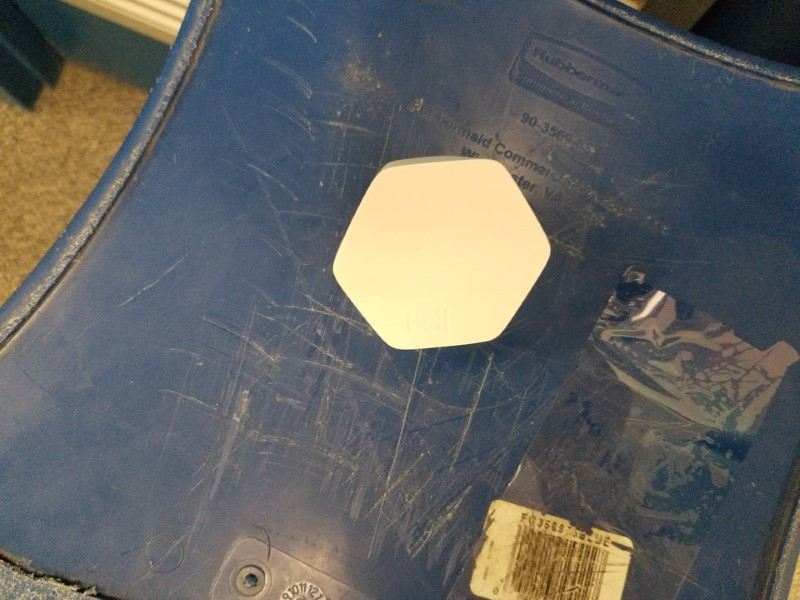pod: (329, 151, 555, 355)
